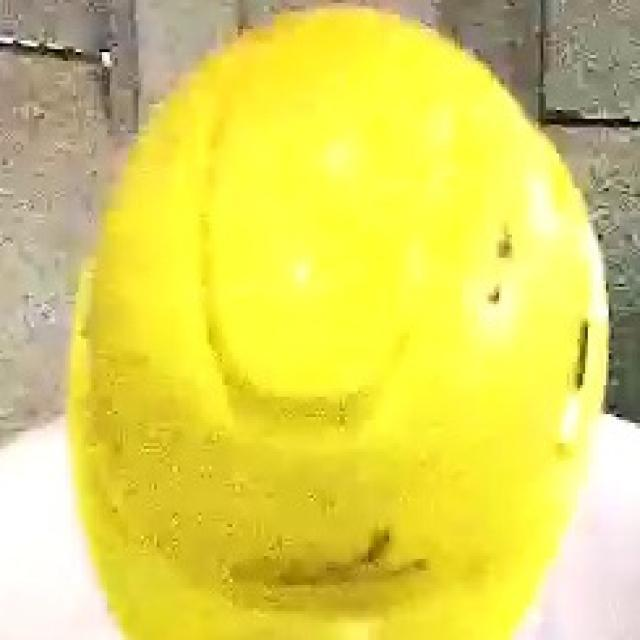yellow helmet: (56, 8, 626, 640)
